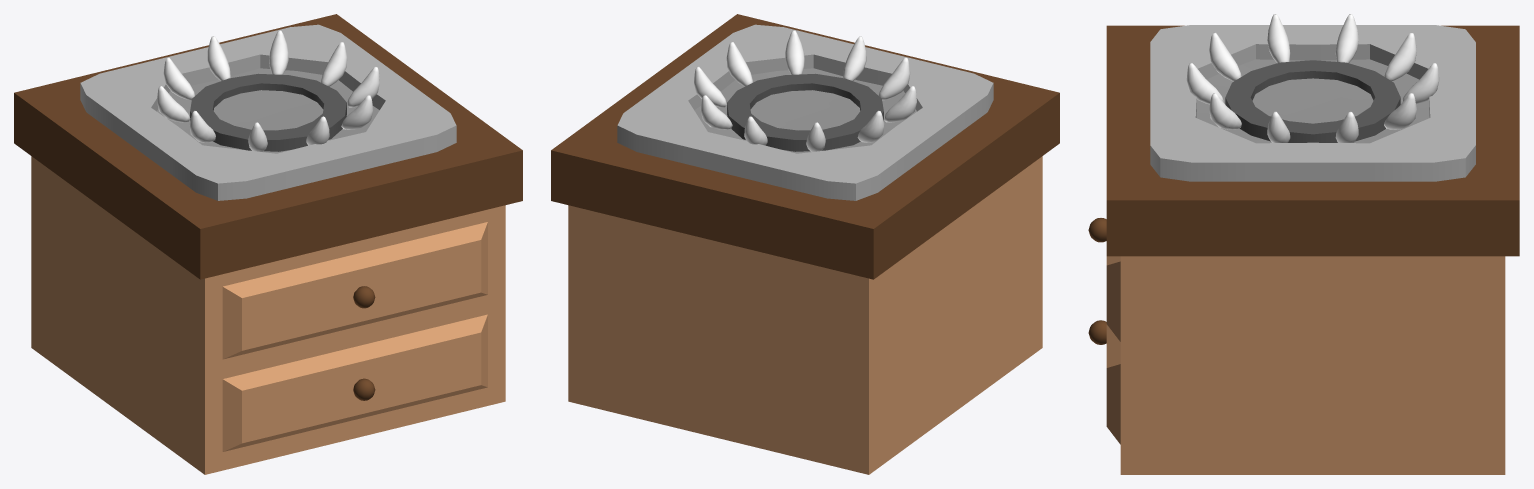
Rendered from ASFTR_CounterBurner.fbx.
3 renders of one model, left to right at view 1: azimuth 30°, elevation 25°; view 2: azimuth 150°, elevation 25°; view 3: azimuth 270°, elevation 25°, orthographic. The views are drawn at different scales.
Visible parts, largest first — view 1: ASFTR_CounterBurner, ASFTR_BurnerFlames; view 2: ASFTR_CounterBurner, ASFTR_BurnerFlames; view 3: ASFTR_CounterBurner, ASFTR_BurnerFlames.
Part boxes in pixels (x1=…): ASFTR_CounterBurner: x1=14, y1=14, x2=522, y2=474; ASFTR_BurnerFlames: x1=157, y1=30, x2=379, y2=151; ASFTR_CounterBurner: x1=551, y1=14, x2=1059, y2=474; ASFTR_BurnerFlames: x1=694, y1=30, x2=916, y2=151; ASFTR_CounterBurner: x1=1088, y1=25, x2=1519, y2=474; ASFTR_BurnerFlames: x1=1186, y1=14, x2=1439, y2=142.
Size of the model in its own units: 100 by 88.28 by 104.
